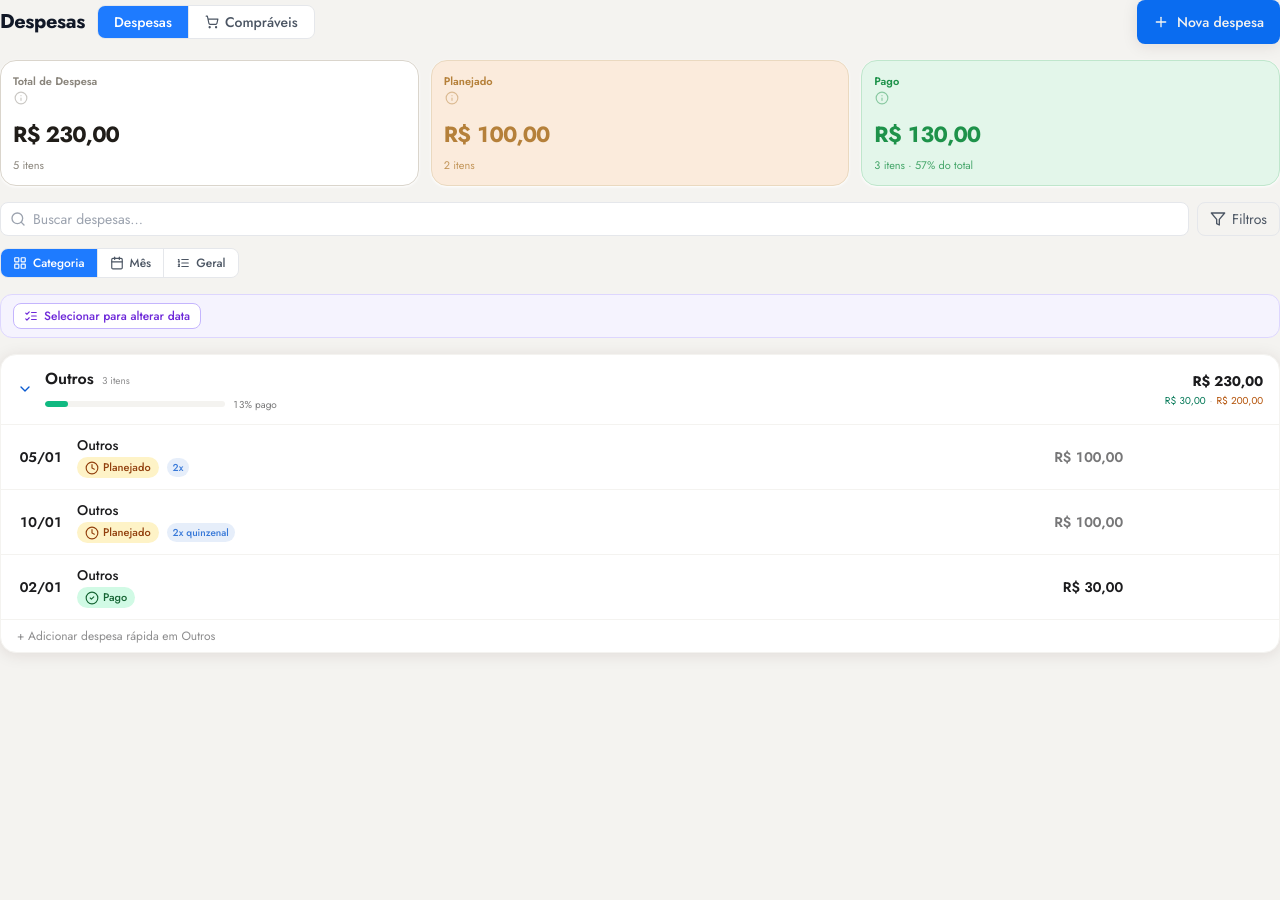
Test: ExpensesView — gate de import de extrato bancário (#218) › REFORMA: 'Fatura de cartão' continua presente (creditCards funciona — não regride)
Click the button "Nova despesa": (1208, 22) [1137,0,1279,44]
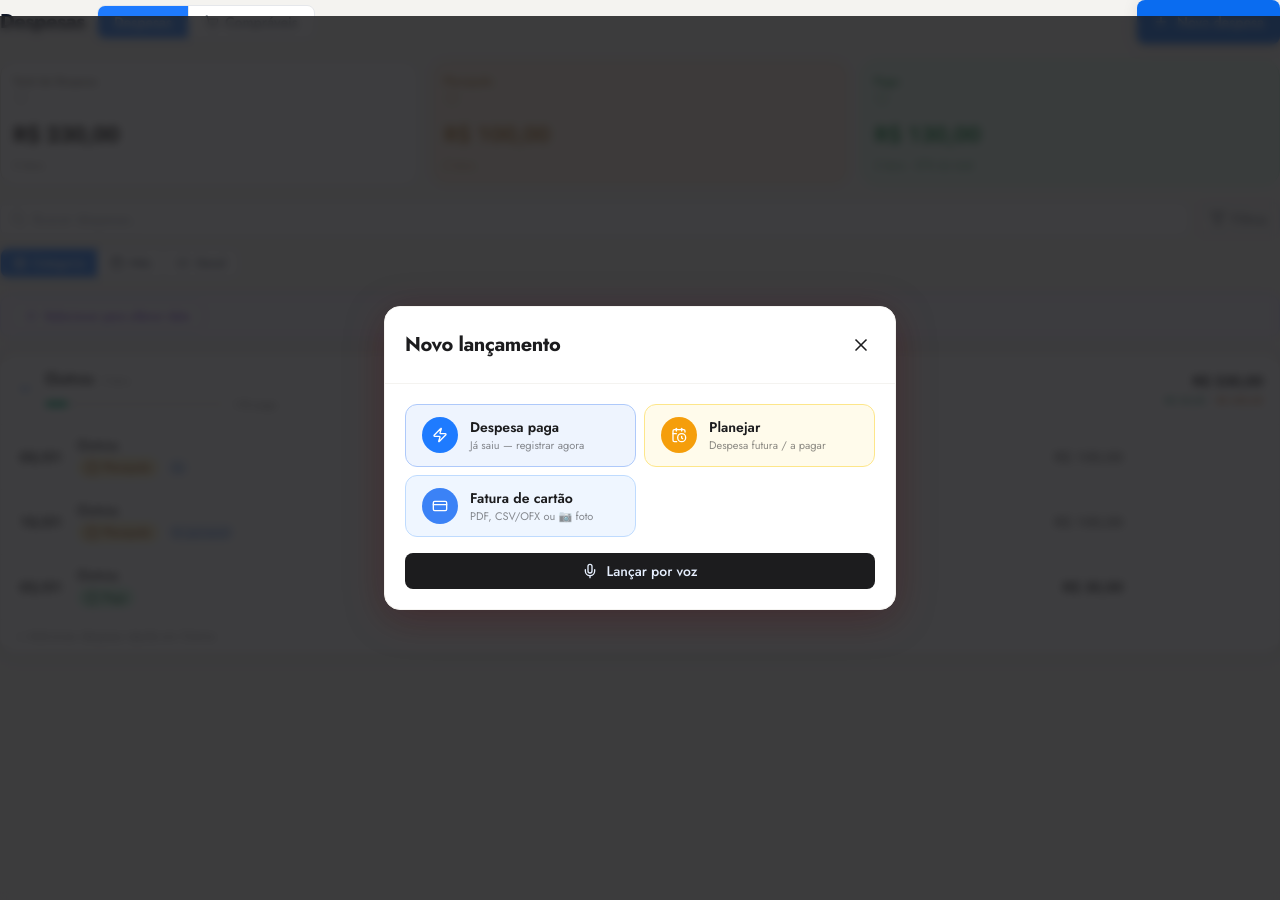
Now the button "Fatura de cartão PDF, CSV/OFX ou 📷 foto" is shown, box [405,474,636,537]
